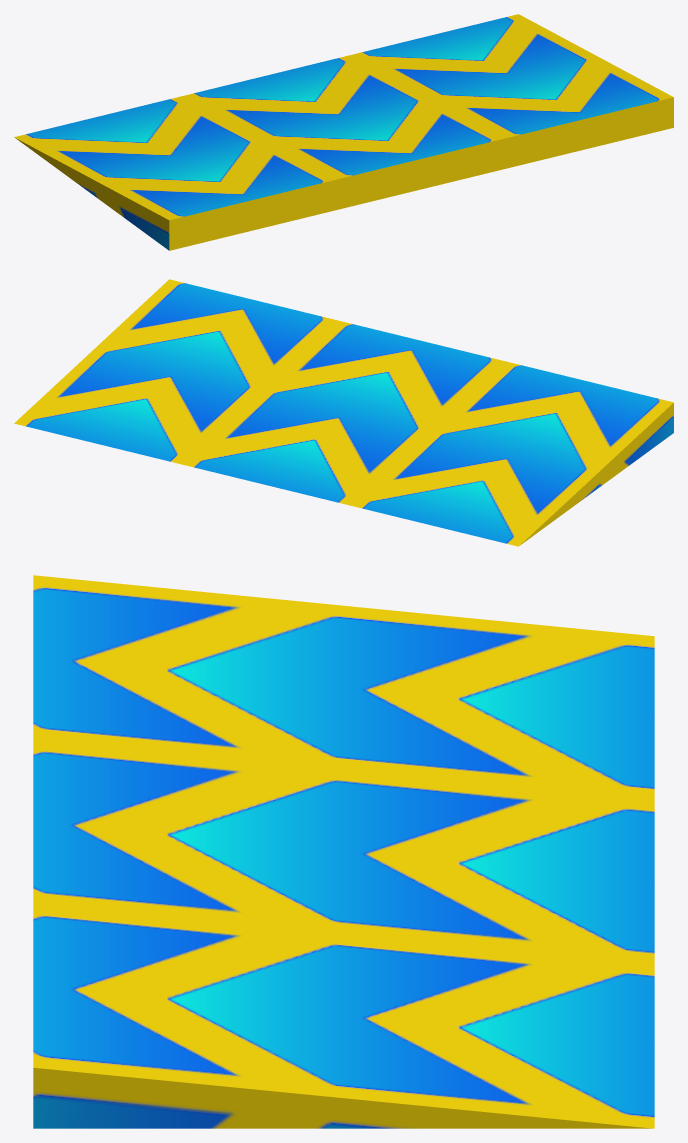
File: Booster_Pad_Collider_ConvexHull.glb
The picture shows the model from 3 angles, top to bottom: view 1: azimuth 30°, elevation 25°; view 2: azimuth 150°, elevation 25°; view 3: azimuth 270°, elevation 25°; orthographic projection. The views are drawn at different scales.
Visible parts, largest first — view 1: Booster_Pad_Collider_ConvexHull; view 2: Booster_Pad_Collider_ConvexHull; view 3: Booster_Pad_Collider_ConvexHull.
Part boxes in pixels (x1,y1,x2,y2): Booster_Pad_Collider_ConvexHull: [14, 14, 673, 250]; Booster_Pad_Collider_ConvexHull: [14, 279, 673, 546]; Booster_Pad_Collider_ConvexHull: [33, 575, 654, 1128].
Size of the model in its own units: 3.75 by 0.2167 by 2.
1 material, 1 textured.
